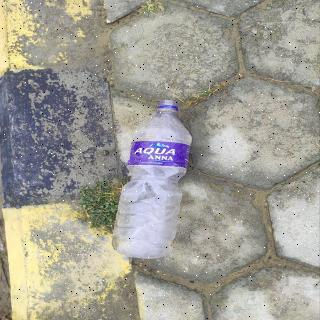Plastic-bottle: (109, 98, 198, 262)
